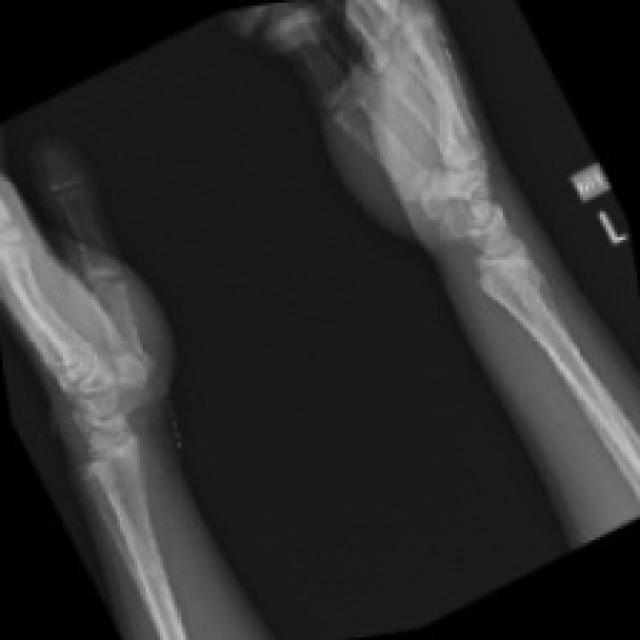fracture: (427, 191, 571, 349)
